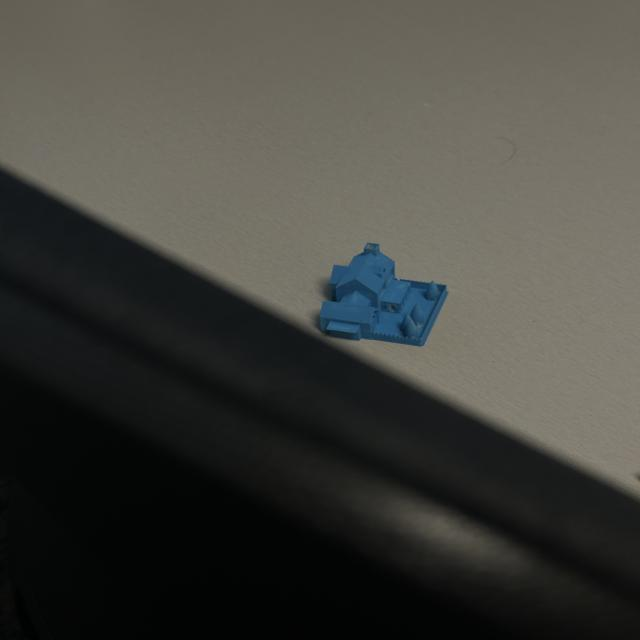house: (314, 239, 452, 348)
